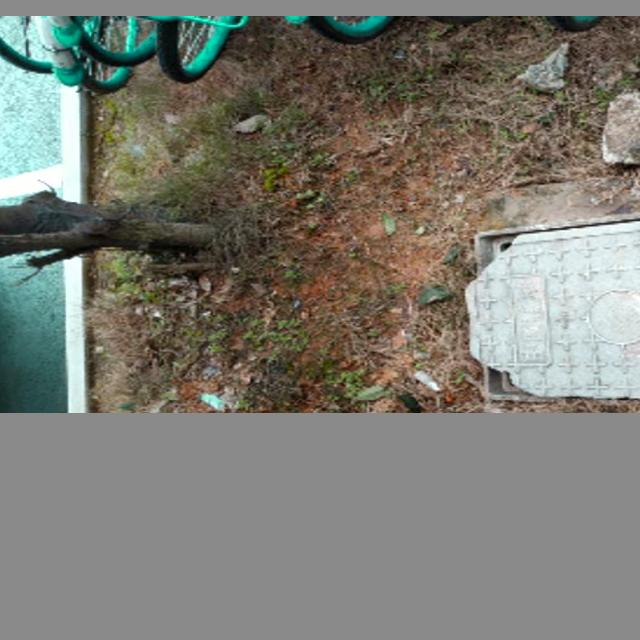broke: (455, 227, 640, 402)
